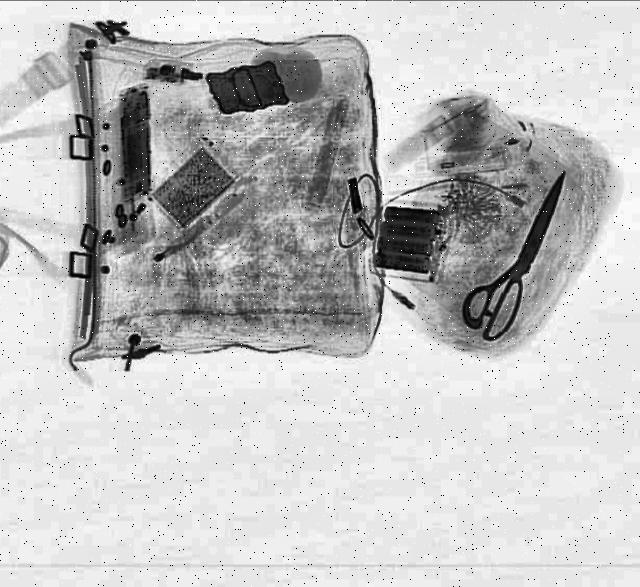Scissors: (452, 162, 592, 346)
